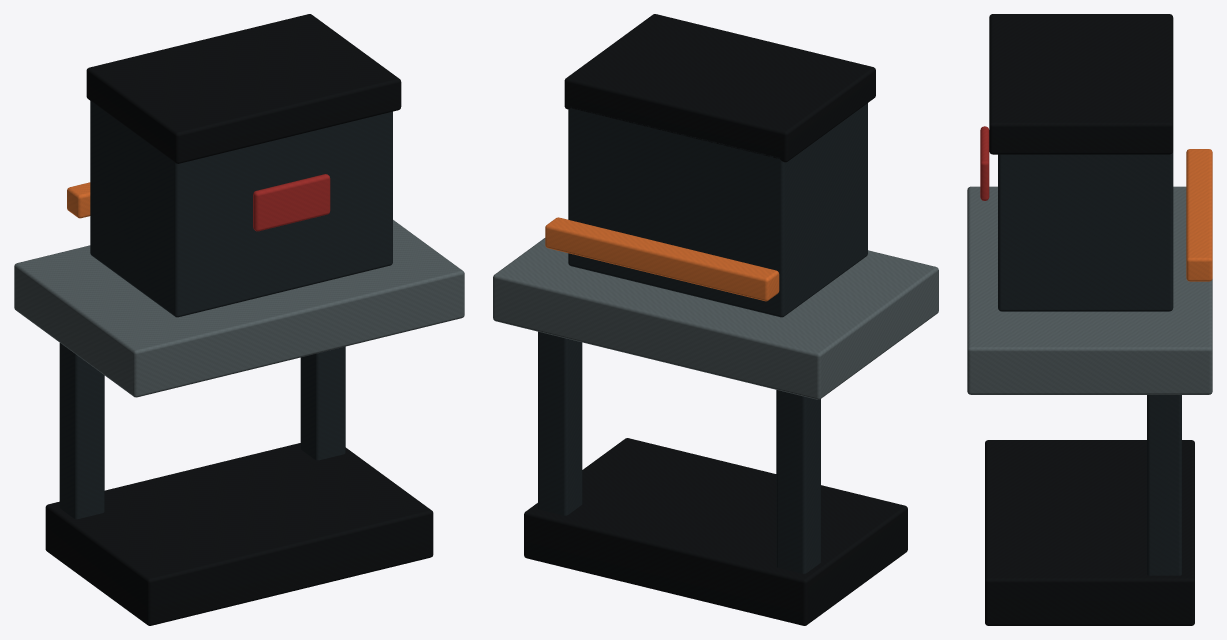
The model's file is MobileEvidenceCart.glb.
The picture shows the model from 3 angles, left to right: view 1: azimuth 30°, elevation 25°; view 2: azimuth 150°, elevation 25°; view 3: azimuth 270°, elevation 25°; orthographic projection.
Visible parts, largest first — view 1: MobileEvidenceCart_Mesh; view 2: MobileEvidenceCart_Mesh; view 3: MobileEvidenceCart_Mesh.
Boxes of the visible parts, x1=… form: MobileEvidenceCart_Mesh: x1=14, y1=14, x2=464, y2=625; MobileEvidenceCart_Mesh: x1=493, y1=14, x2=938, y2=625; MobileEvidenceCart_Mesh: x1=967, y1=14, x2=1212, y2=625.
Bounding box in the file's own units: 0.88 × 1.23 × 0.56.
5 materials, 5 textured.
